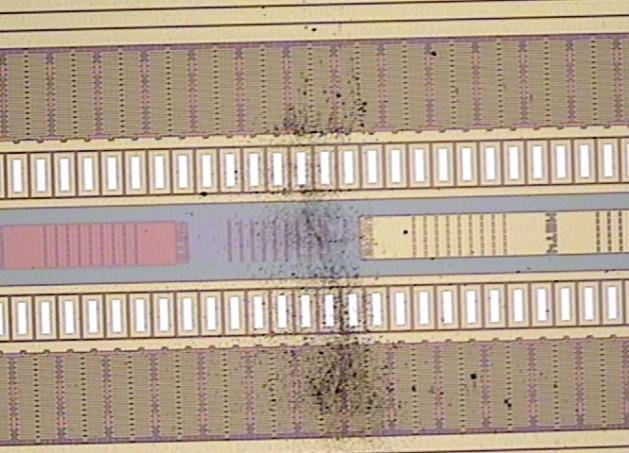PO CONTAMINATION: (228, 63, 623, 453)
